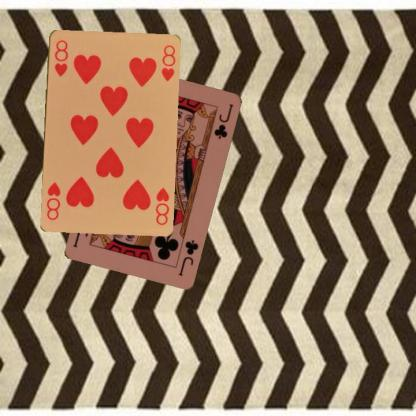8h: (152, 185, 170, 226), (52, 37, 70, 77)
Jc: (176, 236, 200, 278)
